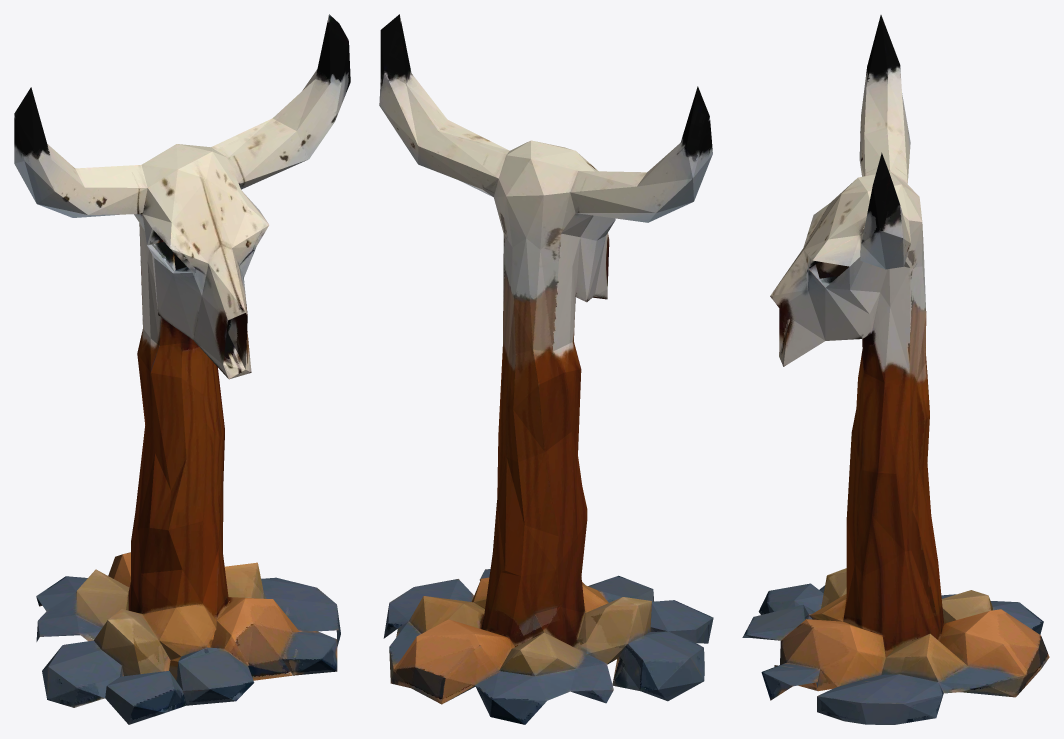
File: skull_totem_prop.glb
The picture shows the model from 3 angles, left to right: view 1: azimuth 30°, elevation 25°; view 2: azimuth 150°, elevation 25°; view 3: azimuth 270°, elevation 25°; orthographic projection. The views are drawn at different scales.
Size of the model in its own units: 1.12 by 1.99 by 0.943.
Materials: 1 (1 with a texture image).
